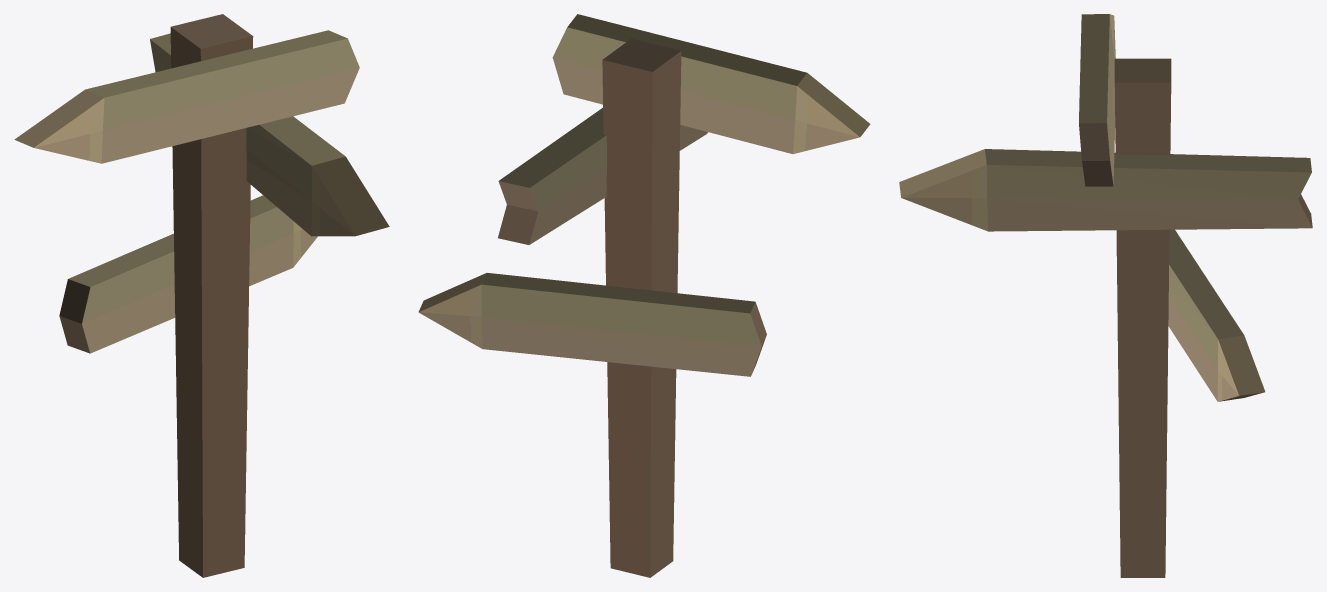
Rendered from village-decor07.fbx.
3 renders of one model, left to right at view 1: azimuth 30°, elevation 25°; view 2: azimuth 150°, elevation 25°; view 3: azimuth 270°, elevation 25°, orthographic. The views are drawn at different scales.
Visible parts, largest first — view 1: village-decor07; view 2: village-decor07; view 3: village-decor07.
Part boxes in pixels (x1,y1,x2,y2): village-decor07: (14,14,389,577); village-decor07: (418,14,870,577); village-decor07: (899,14,1312,577).
Bounding box in the file's own units: 0.7589 × 0.9911 × 0.7462.
Materials: 1 (1 with a texture image).
